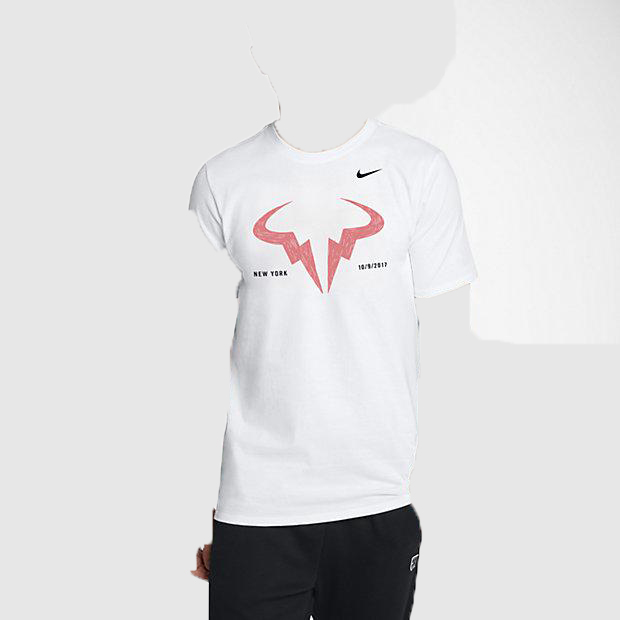teeshirt: (178, 119, 490, 530)
